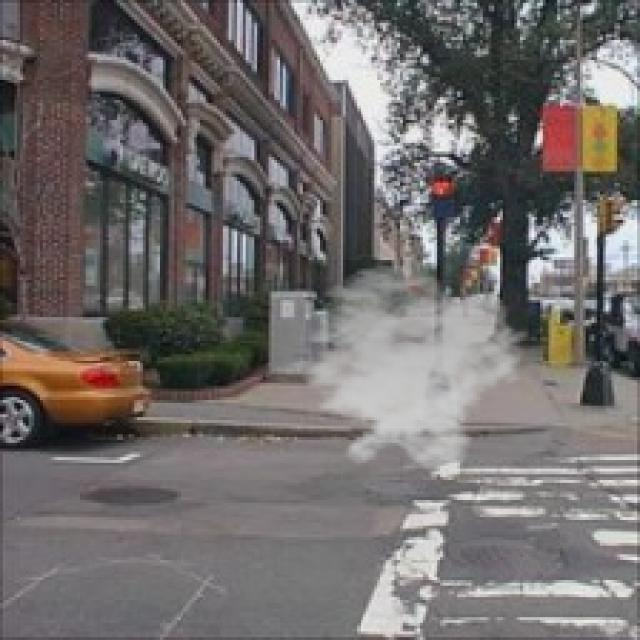smoke: (274, 263, 532, 474)
